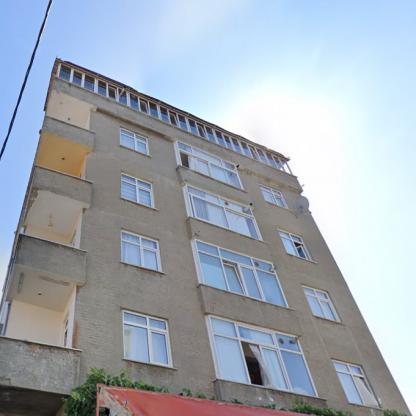window: (58, 64, 292, 175), (210, 316, 316, 397), (196, 240, 288, 307), (186, 185, 260, 240), (178, 141, 242, 189), (124, 311, 170, 365), (122, 230, 160, 271), (302, 286, 338, 322), (121, 173, 153, 207), (277, 230, 311, 260), (121, 128, 148, 155), (258, 184, 286, 208)
